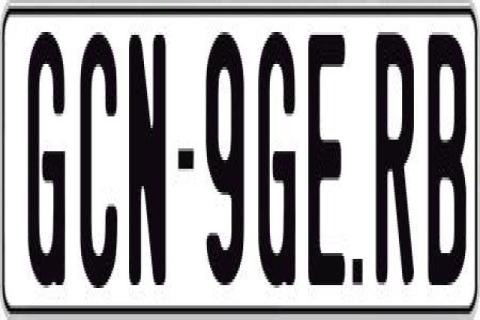0: (204, 27, 248, 297)
B: (428, 29, 462, 297)
C: (78, 32, 118, 294)
E: (305, 35, 348, 291)
G: (255, 29, 299, 282), (28, 24, 69, 282)
N: (129, 32, 166, 291)
R: (374, 29, 414, 288)
